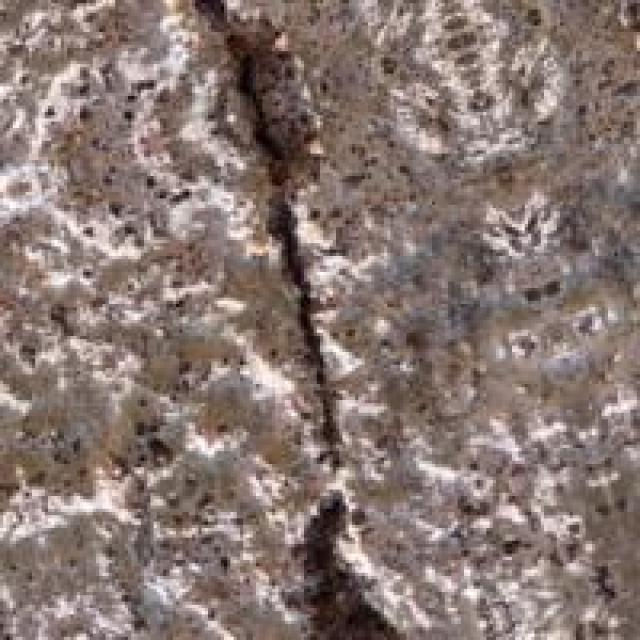crack: (176, 0, 435, 637)
